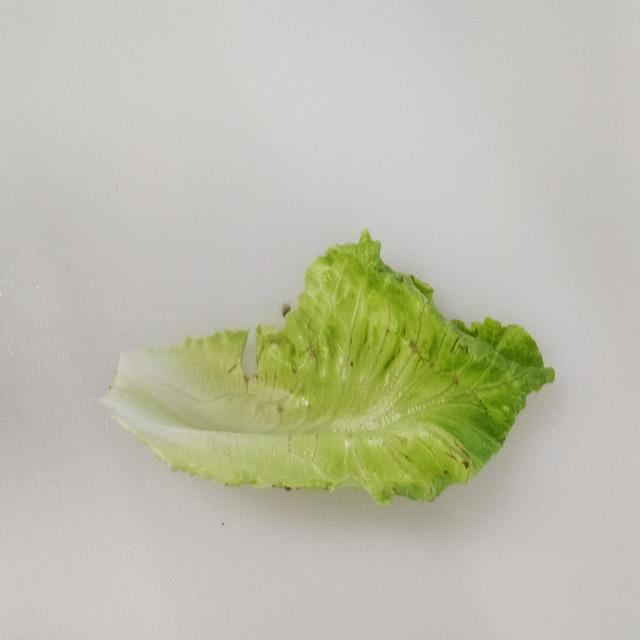lettuce: (98, 228, 555, 506)
